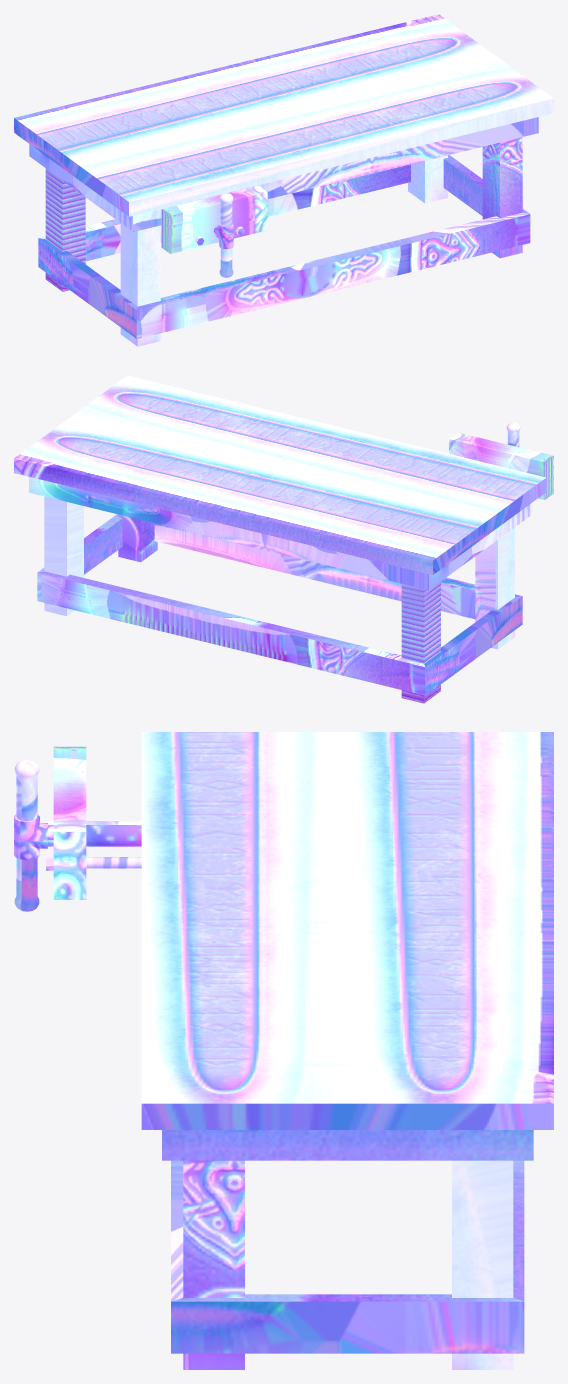
File: workbench (с - Catsnap0006).fbx
3 renders of one model, top to bottom at view 1: azimuth 30°, elevation 25°; view 2: azimuth 150°, elevation 25°; view 3: azimuth 270°, elevation 25°, orthographic. The views are drawn at different scales.
Parts seen in each view (by area): view 1: Bench_low, Vise_low; view 2: Bench_low, Vise_low; view 3: Bench_low, Vise_low.
Part boxes in pixels (box(x1,y1,x2,y2)): Bench_low: box(14, 14, 553, 346); Vise_low: box(161, 185, 267, 277); Bench_low: box(14, 375, 546, 703); Vise_low: box(449, 422, 553, 499); Bench_low: box(141, 732, 553, 1369); Vise_low: box(14, 746, 141, 911).
Bounding box in the file's own units: 31055 × 12109 × 19077.
